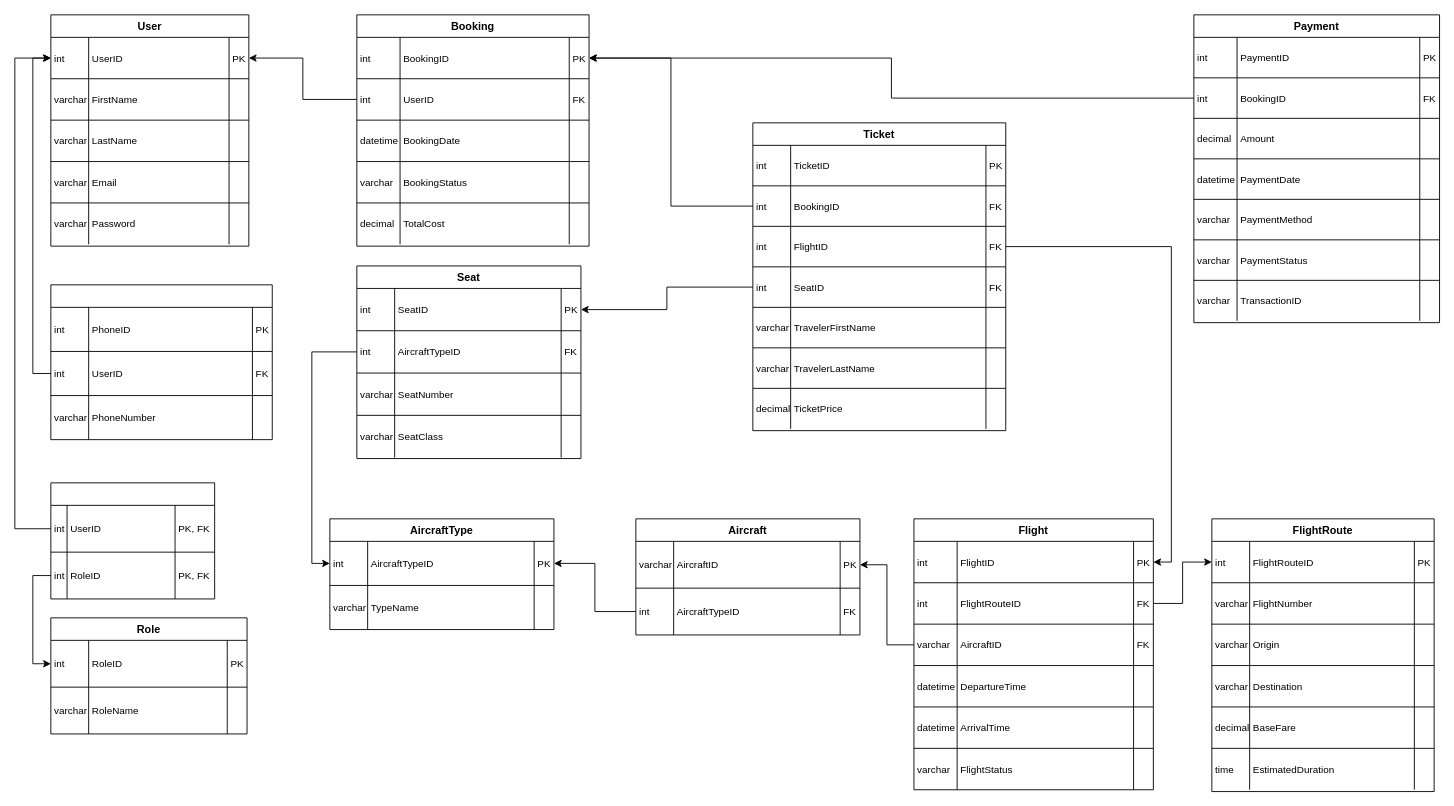
Image size: 1454x806. Some labels were removed from this diagram. Here are the shapes that lost their labels. From the top down, the box of each, then its label:
(50, 284, 272, 440): UserPhone
(50, 482, 215, 599): UserRole
